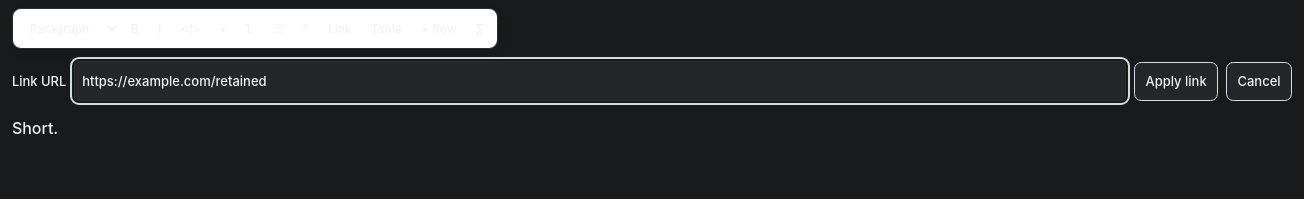
Test: rendered editor host transaction boundary › retains a link draft and refuses stale selection coordinates after an external source update
This screenshot has width=1304, height=199.
Earlier steps of the test are not shown.
Later steps or results of the test are not shown.
What coordinates should you click on to do the following:
click the button "Apply link"
I would click on:
 (1176, 81)
Its box is [1134, 62, 1218, 101].
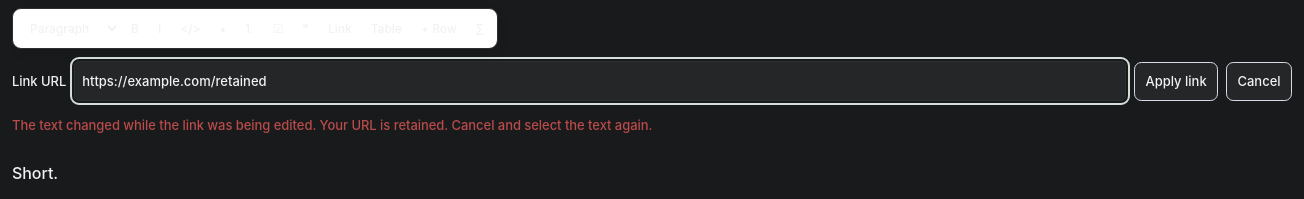
Expected: the field named "Editable document" reads "Short.", [12, 163, 58, 183]
Result: the message shows "Your URL is retained" at [12, 117, 652, 133]
